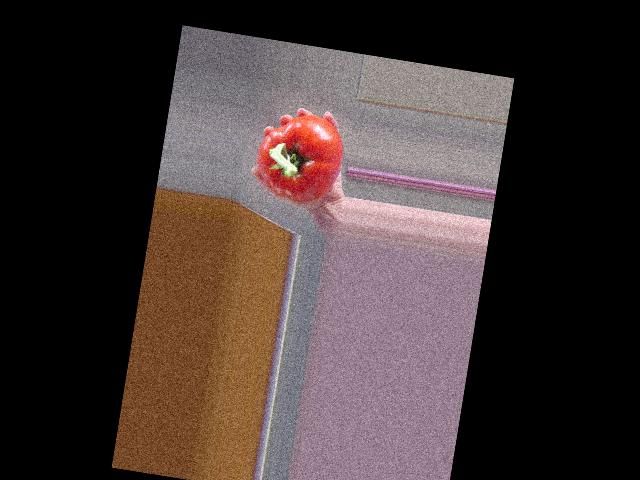tomato: (251, 107, 348, 207)
